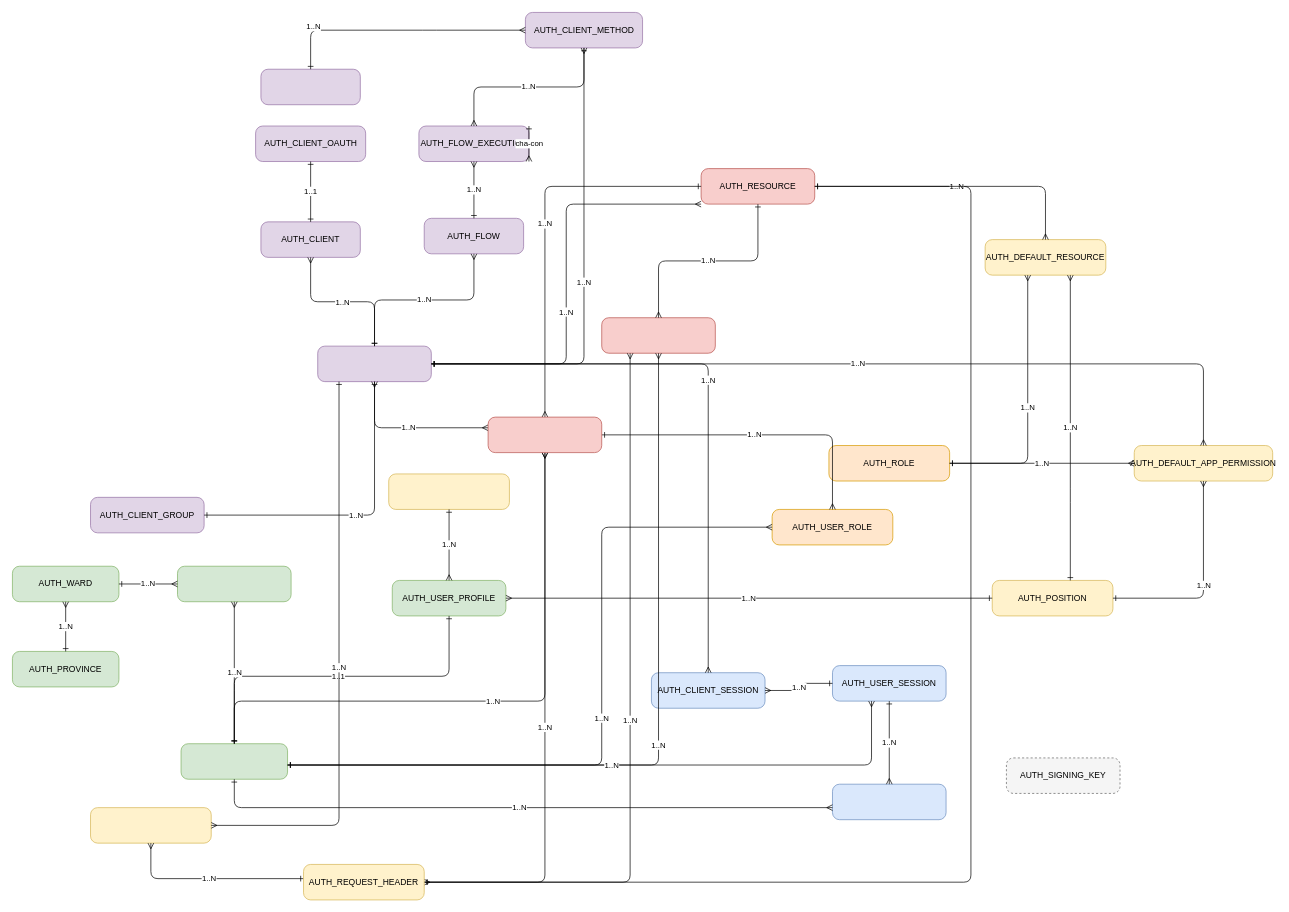
Some shapes in this 1289 by 912 pixel diagram are drawn without their labels. Here are the shapes that lost their labels. From the top down, the centre of each, then its label:
At pixel 310 87: "AUTH_METHOD".
At pixel 658 335: "AUTH_USER_RESOURCE".
At pixel 374 363: "AUTH_APPLICATION".
At pixel 544 434: "AUTH_APP_PERMISSION".
At pixel 448 491: "AUTH_DEPARTMENT".
At pixel 234 584: "AUTH_USER_ADDRESS".
At pixel 234 761: "AUTH_USER".
At pixel 889 801: "AUTH_REFRESH_TOKEN".
At pixel 150 825: "AUTH_REQUEST_DETAIL".
